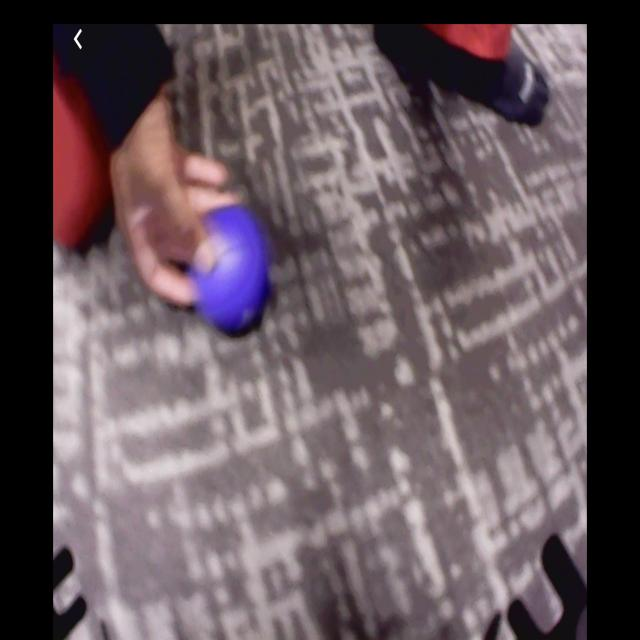ball: (194, 203, 268, 335)
